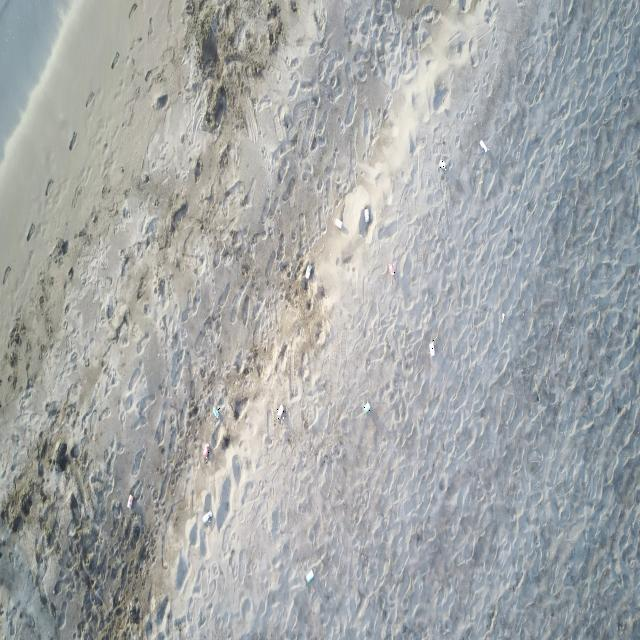Garbage: (357, 204, 371, 236), (220, 432, 230, 448), (303, 263, 312, 280), (304, 568, 313, 584), (201, 443, 209, 460), (201, 512, 212, 524), (276, 404, 283, 419), (387, 263, 395, 276), (212, 406, 219, 419), (333, 218, 342, 228), (479, 140, 487, 151), (363, 207, 368, 223), (428, 340, 433, 355), (439, 159, 446, 169), (127, 494, 132, 507), (363, 403, 369, 412), (500, 312, 504, 322)
